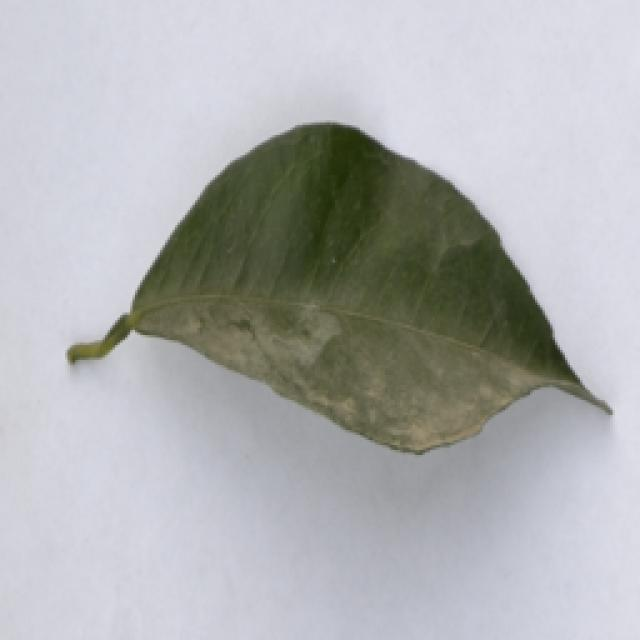healthy: (62, 119, 616, 483)
